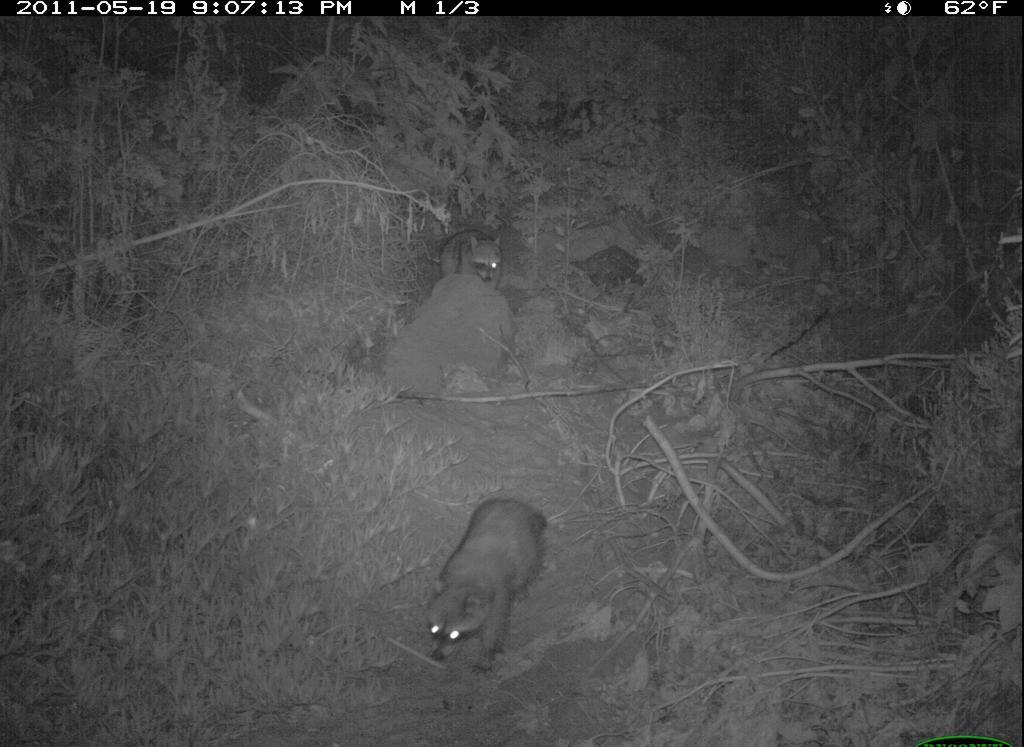raccoon: (424, 491, 555, 680), (431, 218, 518, 317)
